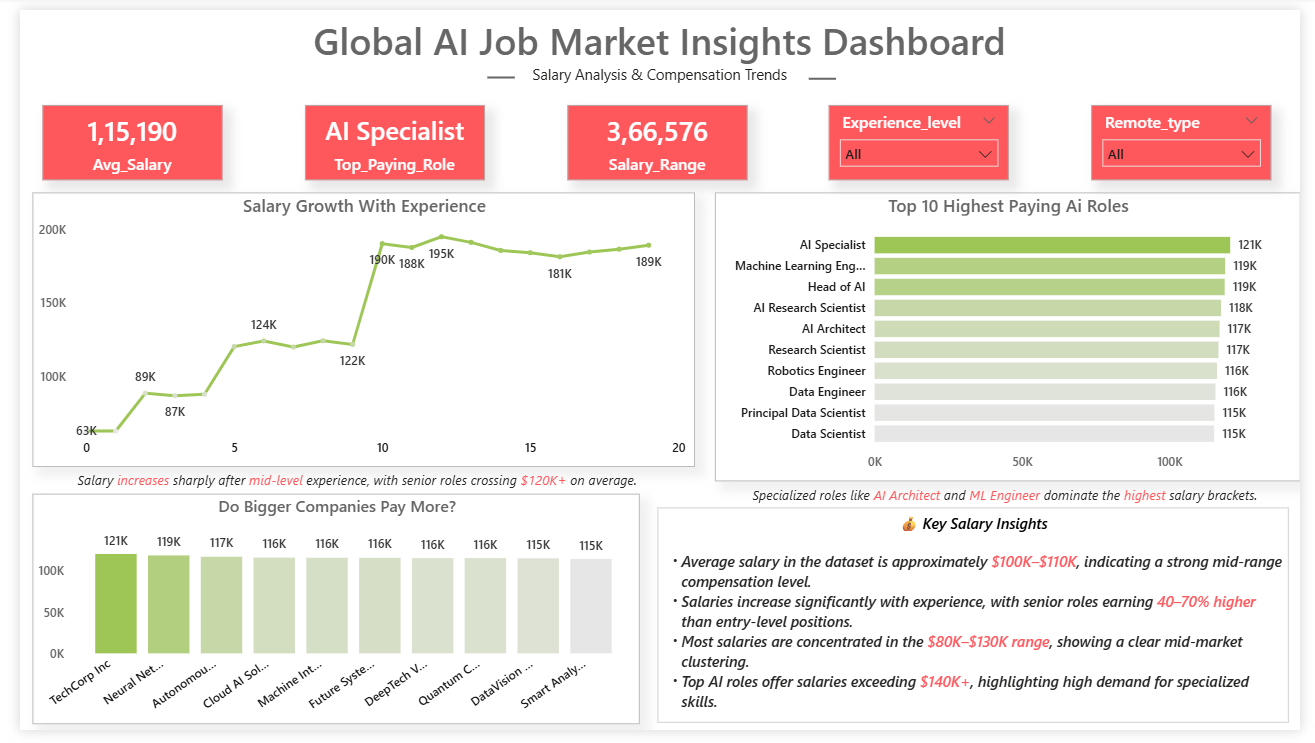

What the dashboard file says about the page in this screenshot:
{"tool":"powerbi","page":{"name":"Salary Analysis","canvas":[1280,720],"ordinal":1},"visuals":[{"type":"textbox","box":[62.9,0,1154.5,93.1],"z":0},{"type":"shape","box":[788.8,32.5,27.5,72.5],"z":1000},{"type":"shape","box":[467.5,31.2,27.5,72.5],"z":2000},{"type":"card","fields":{"Values":["ai_job_dataset.Avg_Salary"]},"box":[23.1,94.9,180.1,75.5],"z":4000},{"type":"card","fields":{"Values":["ai_job_dataset.salary_Range"]},"box":[547,94.9,180.1,75.5],"z":5000},{"type":"card","fields":{"Values":["ai_job_dataset.Top_Paying_Role"]},"box":[285.1,94.9,180,75.5],"z":6000},{"type":"lineChart","title":"Salary Growth With Experience","fields":{"Category":["ai_job_dataset.years_experience"],"Y":["ai_job_dataset.Avg_Salary"]},"box":[12.2,182.2,662.2,274.4],"z":7000},{"type":"textbox","box":[52.2,456.7,582.2,50],"z":8000},{"type":"clusteredBarChart","title":"Top 10 Highest Paying Ai Roles","fields":{"Category":["ai_job_dataset.job_title"],"Y":["ai_job_dataset.Avg_Salary"]},"box":[694.9,182.5,585.4,288.4],"z":9000},{"type":"textbox","box":[727.7,471,529.4,37.7],"z":10000},{"type":"slicer","fields":{"Values":["ai_job_dataset.experience_level"]},"box":[809,94.9,180,75],"z":11000},{"type":"slicer","fields":{"Values":["ai_job_dataset.remote_type"]},"box":[1070.9,94.9,180.1,75.5],"z":12000},{"type":"clusteredColumnChart","title":"Do Bigger Companies Pay More?","fields":{"Category":["ai_job_dataset.company_name"],"Y":["ai_job_dataset.Avg_Salary"]},"box":[12.5,483.8,607.5,230],"z":13000},{"type":"textbox","box":[637.5,497.5,631.2,215],"z":14000}]}

Visuals, with their boxes in screenshot pixels (x1, y1, x2, y2), scaled from the page's 1280x720 canvas onto the 1315x743 screenshot:
textbox: {"left": 65, "top": 0, "right": 1251, "bottom": 96}
shape: {"left": 810, "top": 34, "right": 839, "bottom": 108}
shape: {"left": 480, "top": 32, "right": 509, "bottom": 107}
card - ai_job_dataset.Avg_Salary: {"left": 24, "top": 98, "right": 209, "bottom": 176}
card - ai_job_dataset.salary_Range: {"left": 562, "top": 98, "right": 747, "bottom": 176}
card - ai_job_dataset.Top_Paying_Role: {"left": 293, "top": 98, "right": 478, "bottom": 176}
"Salary Growth With Experience" lineChart: {"left": 13, "top": 188, "right": 693, "bottom": 471}
textbox: {"left": 54, "top": 471, "right": 652, "bottom": 523}
"Top 10 Highest Paying Ai Roles" clusteredBarChart: {"left": 714, "top": 188, "right": 1314, "bottom": 486}
textbox: {"left": 748, "top": 486, "right": 1291, "bottom": 525}
slicer - ai_job_dataset.experience_level: {"left": 831, "top": 98, "right": 1016, "bottom": 175}
slicer - ai_job_dataset.remote_type: {"left": 1100, "top": 98, "right": 1285, "bottom": 176}
"Do Bigger Companies Pay More?" clusteredColumnChart: {"left": 13, "top": 499, "right": 637, "bottom": 737}
textbox: {"left": 655, "top": 513, "right": 1303, "bottom": 735}
